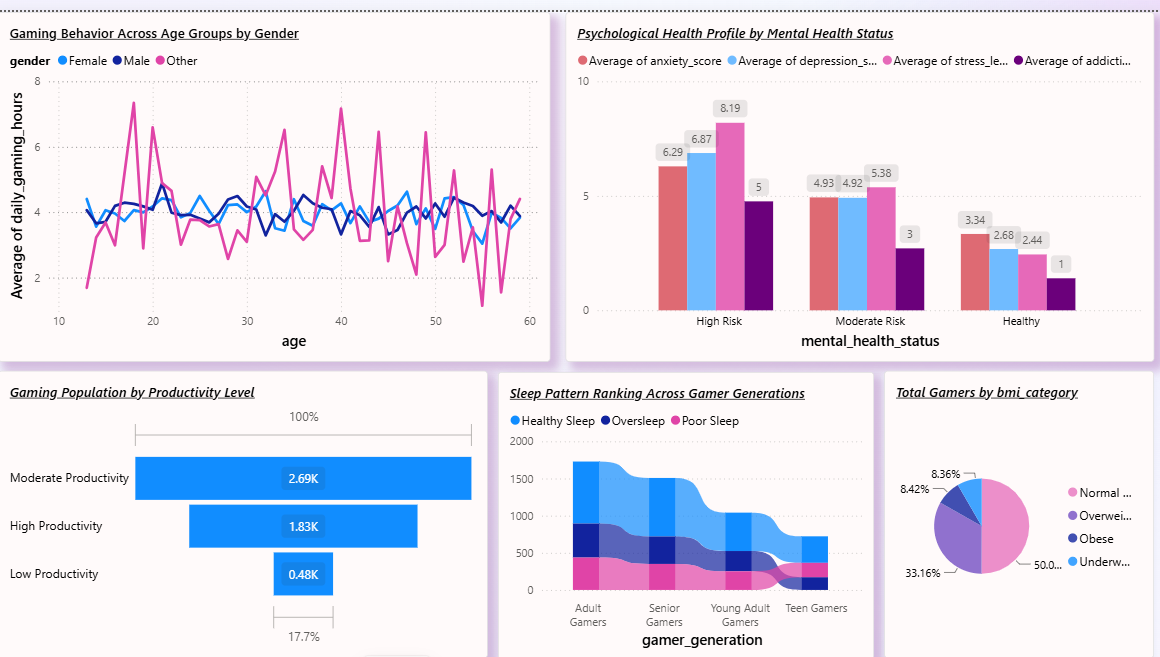

The page's visual inventory and layout, read from the dashboard file:
{"tool":"powerbi","page":{"name":"Page 3","canvas":[1280,720],"ordinal":2},"visuals":[{"type":"lineChart","title":"Gaming Behavior Across Age Groups by Gender","fields":{"Series":["gaming_mental_health gaming_data.gender"],"Y":["Avg(gaming_mental_health gaming_data.daily_gaming_hours)"],"Category":["gaming_mental_health gaming_data.age"]},"box":[0,0,606.5,384.2],"z":0},{"type":"clusteredColumnChart","title":"Psychological Health Profile by Mental Health Status","fields":{"Category":["gaming_mental_health gaming_data.mental_health_status"],"Y":["Avg(gaming_mental_health gaming_data.anxiety_score)","Avg(gaming_mental_health gaming_data.depression_score)","Avg(gaming_mental_health gaming_data.stress_level)","Avg(gaming_mental_health gaming_data.addiction_level)"]},"box":[623,0,646.3,384.2],"z":1000},{"type":"funnel","title":"Gaming Population by Productivity Level","fields":{"Category":["gaming_mental_health gaming_data.productivity_status"],"Y":["gaming_mental_health gaming_data.Total Gamers"]},"box":[0,393.8,537.9,317],"z":2000},{"type":"ribbonChart","title":"Sleep Pattern Ranking Across Gamer Generations","fields":{"Category":["gaming_mental_health gaming_data.gamer_generation"],"Series":["gaming_mental_health gaming_data.sleep_category"],"Y":["gaming_mental_health gaming_data.Total Gamers"]},"box":[548.9,395.2,413,317],"z":3000},{"type":"pieChart","fields":{"Category":["gaming_mental_health gaming_data.bmi_category"],"Y":["gaming_mental_health gaming_data.Total Gamers"]},"box":[972.9,393.8,296.4,317],"z":4000}]}

Visuals, with their boxes in screenshot pixels (x1, y1, x2, y2), scaled from the page's 1280x720 canvas onto the 1160x657 screenshot:
"Gaming Behavior Across Age Groups by Gender" lineChart: l=0, t=0, r=550, b=351
"Psychological Health Profile by Mental Health Status" clusteredColumnChart: l=565, t=0, r=1150, b=351
"Gaming Population by Productivity Level" funnel: l=0, t=359, r=487, b=649
"Sleep Pattern Ranking Across Gamer Generations" ribbonChart: l=497, t=361, r=872, b=650
pieChart - gaming_mental_health gaming_data.bmi_category x gaming_mental_health gaming_data.Total Gamers: l=882, t=359, r=1150, b=649
